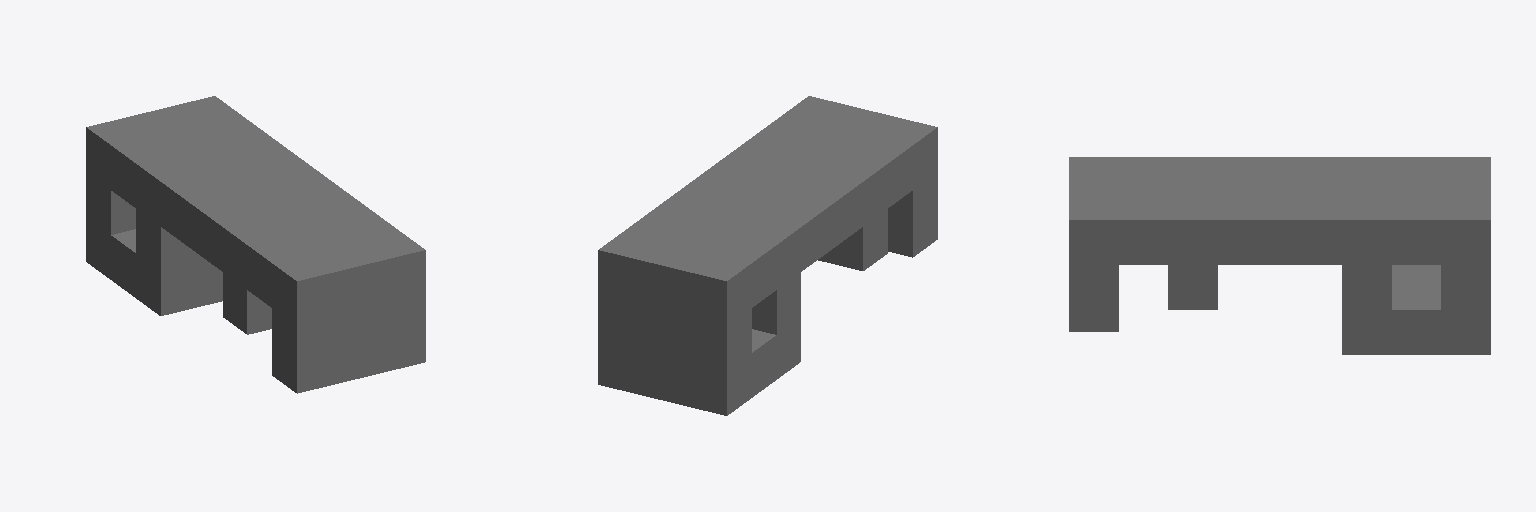
3 views of the same model, side by side, from view 1: azimuth 30°, elevation 25°; view 2: azimuth 150°, elevation 25°; view 3: azimuth 270°, elevation 25° (orthographic).
Visible parts, largest first — view 1: object 1; view 2: object 1; view 3: object 1.
Boxes of the visible parts, <box> form: object 1: <box>86,96,425,393</box>; object 1: <box>598,96,937,415</box>; object 1: <box>1069,157,1490,354</box>.
Size of the model in its own units: 0.6 by 0.6 by 1.7.
Materials: 1 (1 with a texture image).